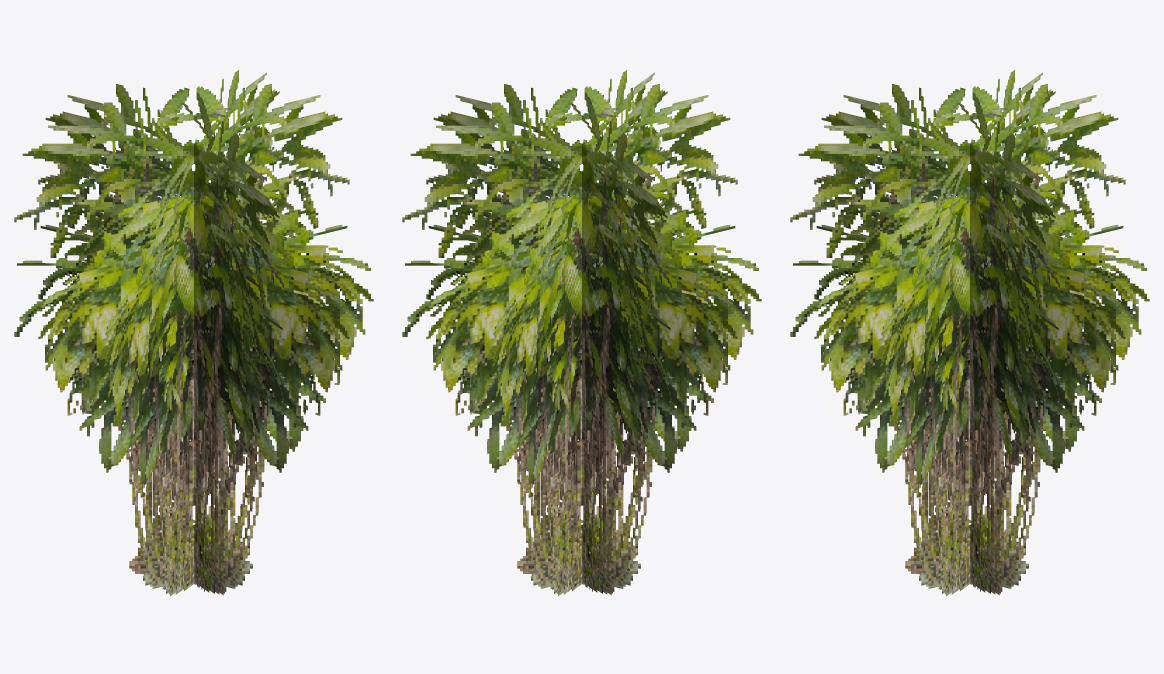
Rendered from plant1.fbx.
3 renders of one model, left to right at view 1: azimuth 30°, elevation 25°; view 2: azimuth 150°, elevation 25°; view 3: azimuth 270°, elevation 25°, orthographic.
Parts seen in each view (by area): view 1: pngfind.com-tropical-plants-png-677090.001; view 2: pngfind.com-tropical-plants-png-677090.001; view 3: pngfind.com-tropical-plants-png-677090.001.
Part boxes in pixels (box(x1,y1,x2,y2)): pngfind.com-tropical-plants-png-677090.001: box(14, 70, 373, 595); pngfind.com-tropical-plants-png-677090.001: box(402, 70, 761, 595); pngfind.com-tropical-plants-png-677090.001: box(790, 70, 1149, 595).
Size of the model in its own units: 65.98 by 100 by 65.98.
Materials: 1 (1 with a texture image).
